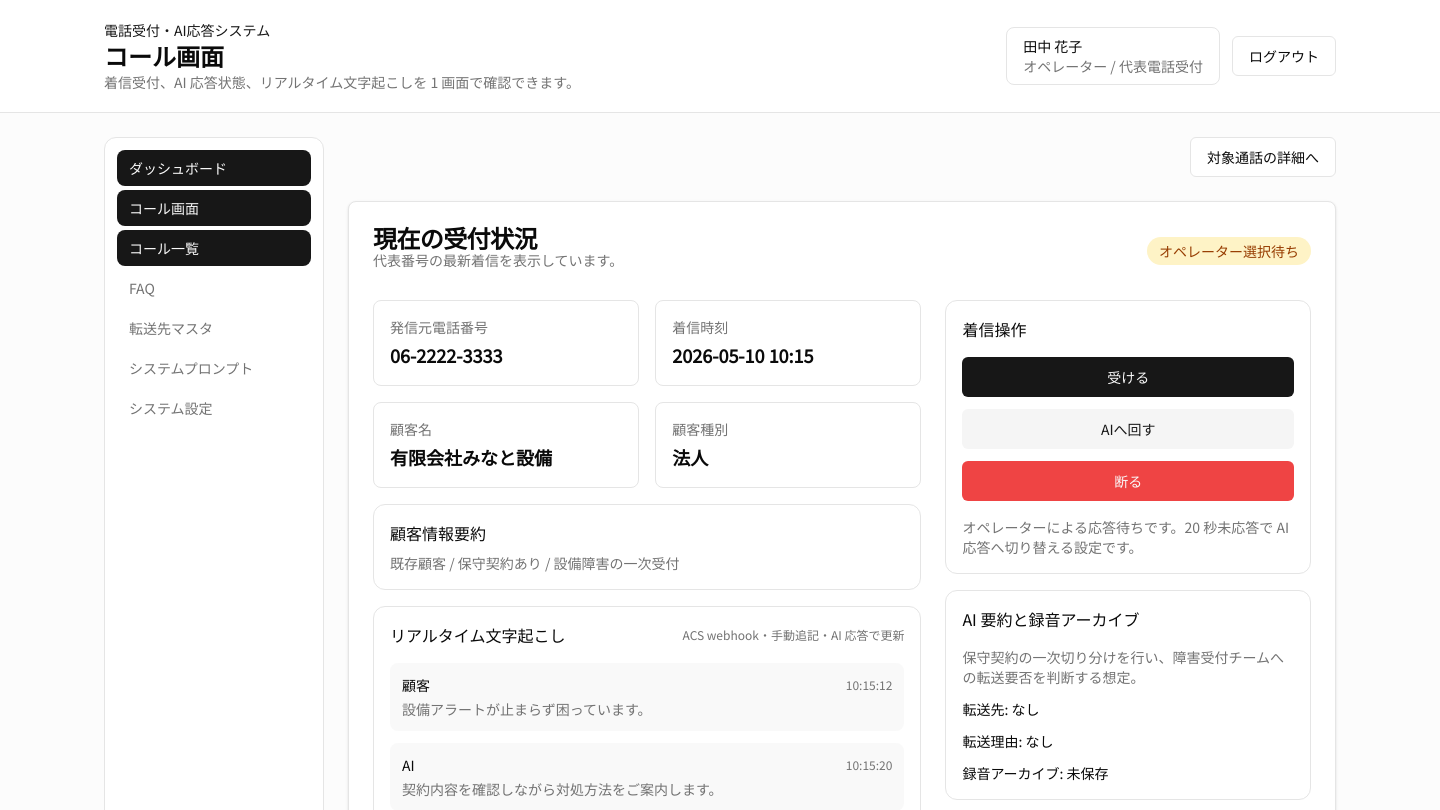
it: CallConsolePage › AIへ回す操作で更新後の状態を表示する
This screenshot has width=1440, height=810.
Click the button "AIへ回す": {"x": 1128, "y": 429} [962,409,1294,449]
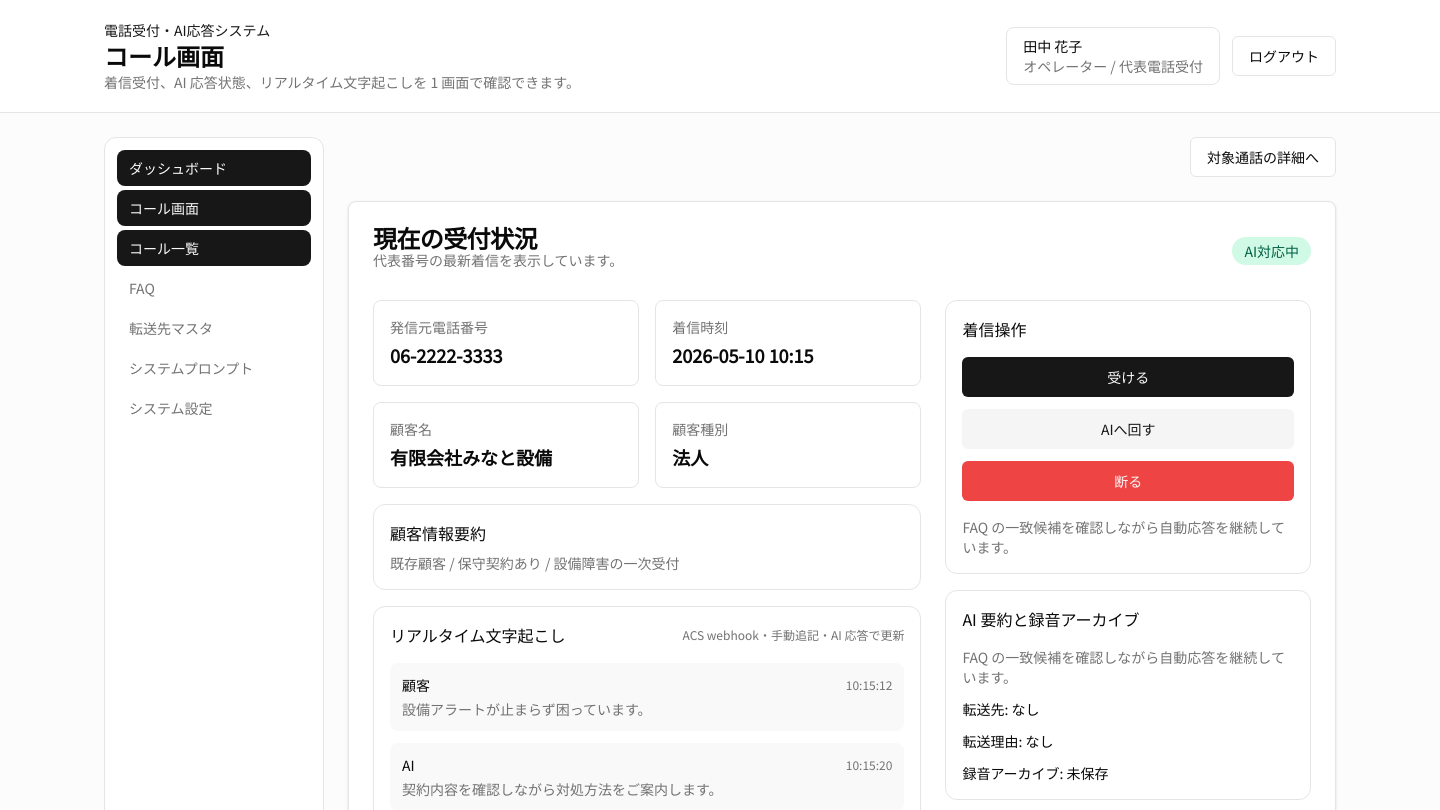
expect the text "AI対応中" is shown: met, box [1232,237,1311,265]
expect the text "FAQ の一致候補を確認しながら自動応答を継続しています。" below "着信操作" is shown: met, box [962,517,1285,557]
